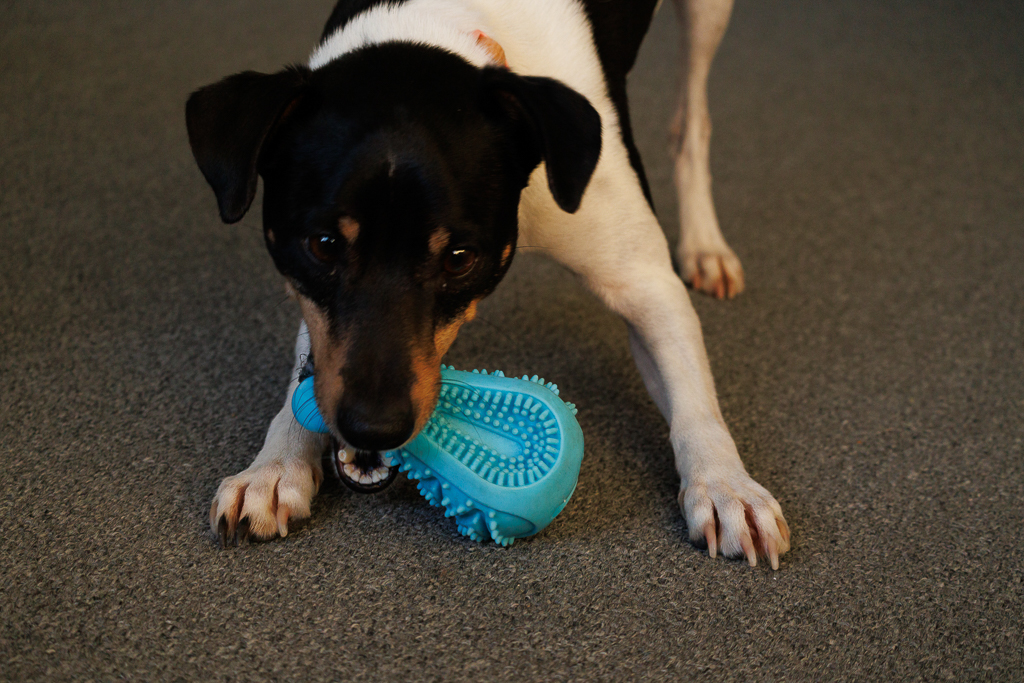Dog: (172, 0, 802, 580)
